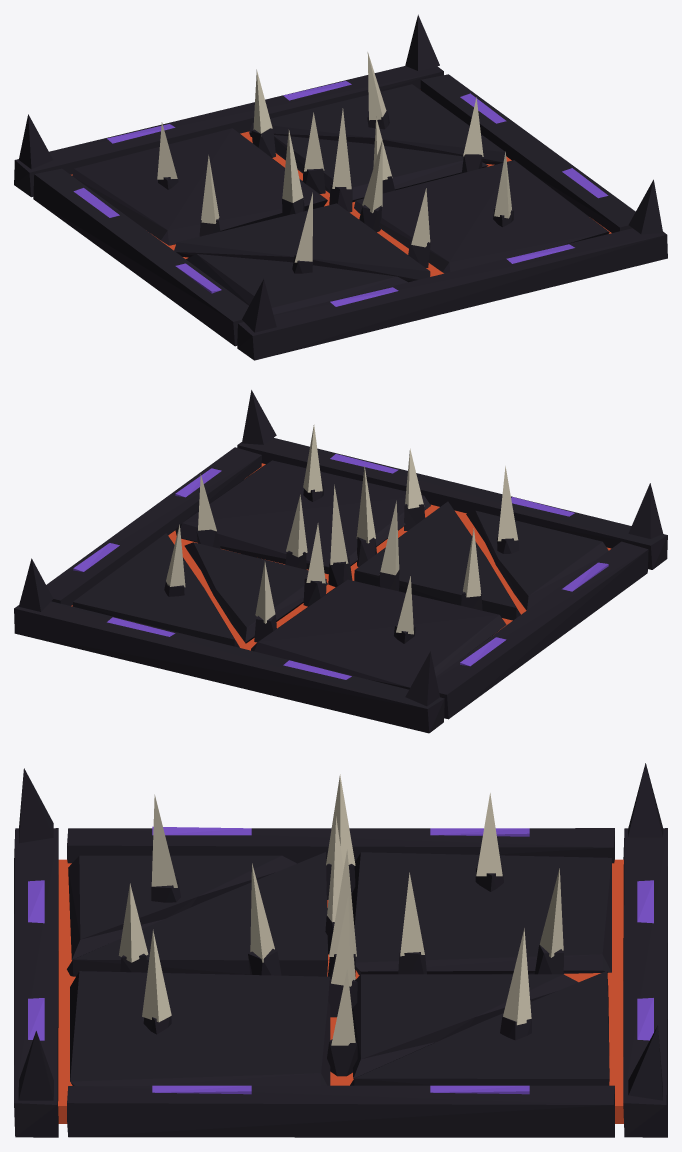
The model's file is spike_trap_lod1.obj.
The picture shows the model from 3 angles, top to bottom: view 1: azimuth 30°, elevation 25°; view 2: azimuth 150°, elevation 25°; view 3: azimuth 270°, elevation 25°; orthographic projection. The views are drawn at different scales.
Parts seen in each view (by area): view 1: spike_trap_lod1; view 2: spike_trap_lod1; view 3: spike_trap_lod1.
Boxes of the visible parts, bbox=[...] form: spike_trap_lod1: bbox=[14, 14, 667, 360]; spike_trap_lod1: bbox=[14, 390, 667, 733]; spike_trap_lod1: bbox=[14, 763, 667, 1137].
Size of the model in its own units: 1.98 by 0.5162 by 1.98.
